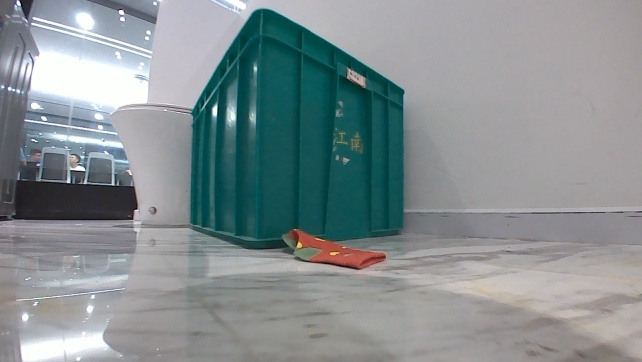socks: (280, 226, 386, 270)
toilet: (107, 100, 195, 230)
